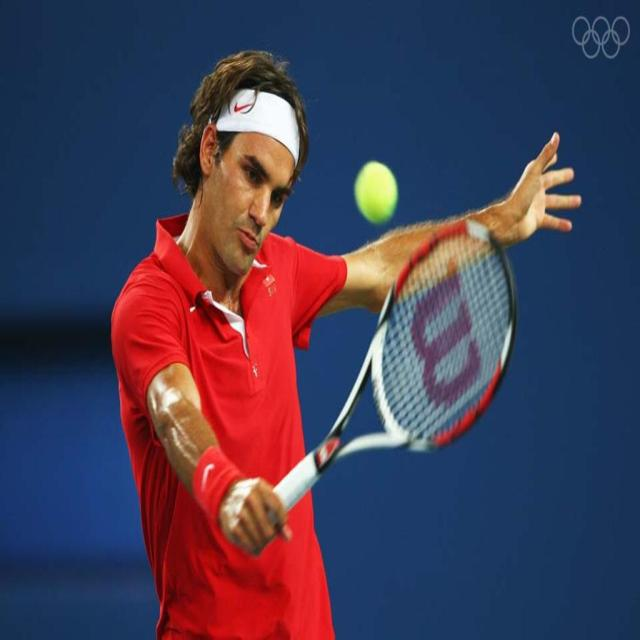Face: (210, 144, 297, 273)
